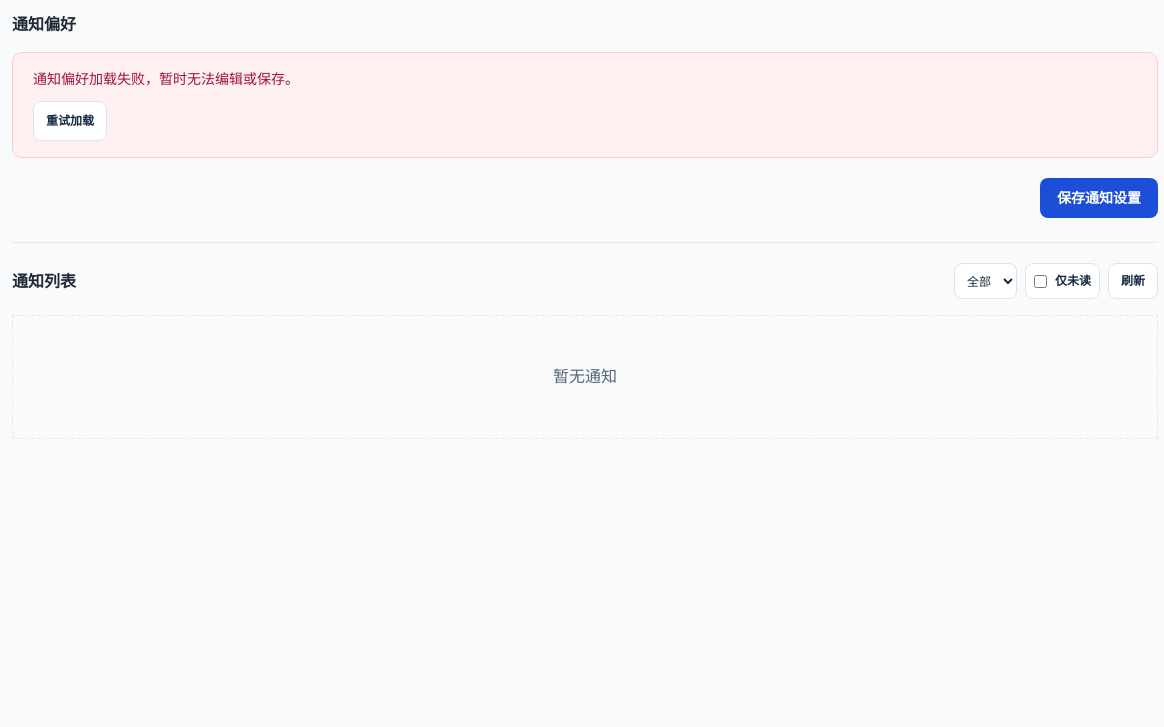
notification preferences with the real API boundary › keeps editing disabled after an invalid successful read and recovers through reload
This screenshot has width=1164, height=727.
Expected: the element showing "通知偏好 通知偏好加载失败，暂时无法编辑或保存。 重试加载 保存通知设置" is shown, [12, 12, 1158, 243]
Expected: the button with class "ui-button-primary" is disabled, [1040, 178, 1158, 218]
Step 1. Click the button with class "ui-button" showing "重试加载" → (70, 121), box [33, 101, 107, 141]
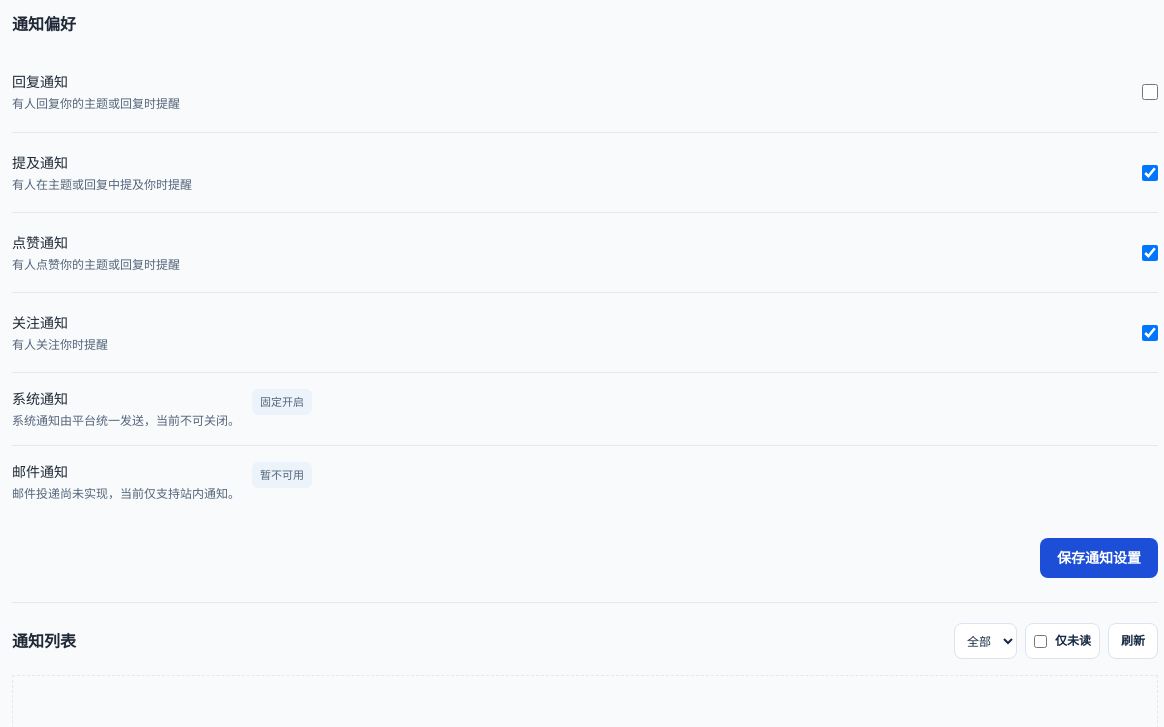
Expected: the checkbox with id "notification-preference-reply" is not checked, [1142, 84, 1158, 100]
Expected: the button with class "ui-button-primary" is enabled, [1040, 538, 1158, 578]
